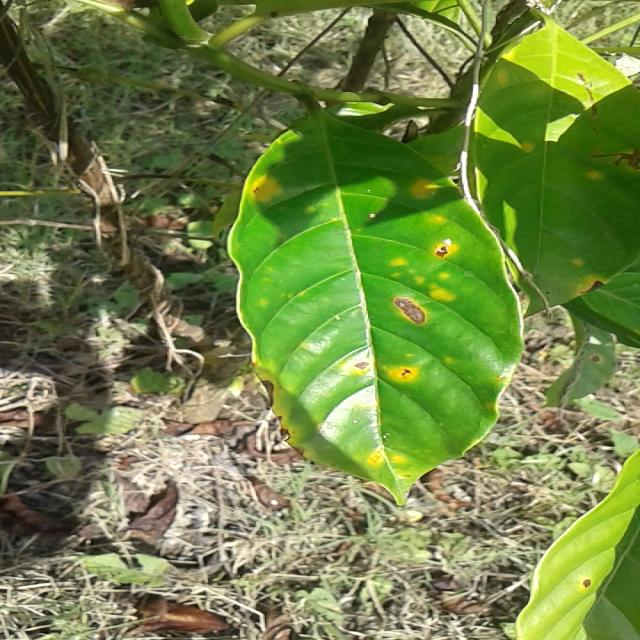Enfermedad-Roya: (226, 113, 526, 505)
